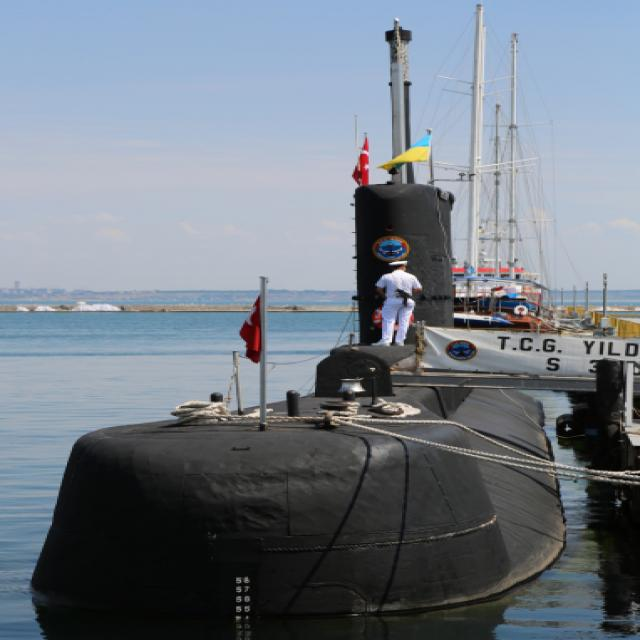submarine: (18, 1, 577, 608)
